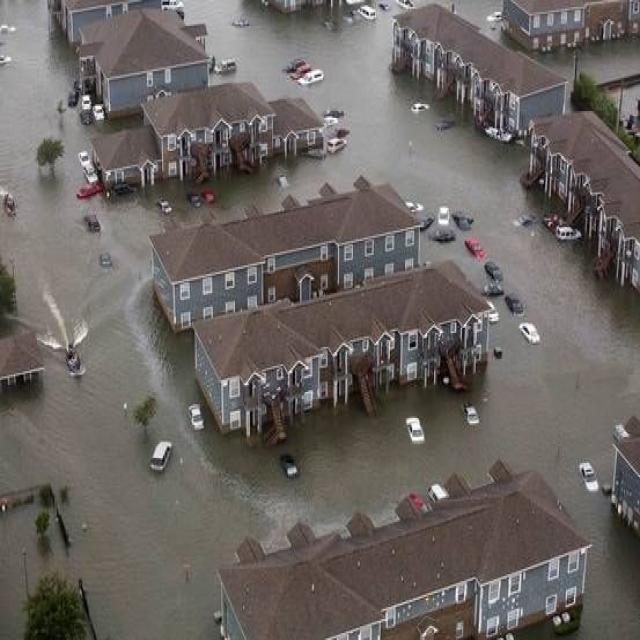flooded_areas: (100, 175, 516, 463), (0, 280, 225, 638), (371, 0, 638, 298), (168, 479, 639, 638), (16, 0, 332, 180)
